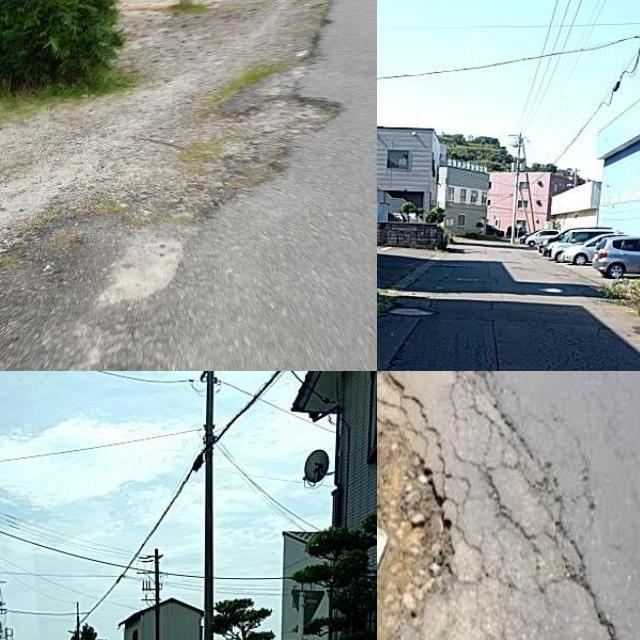Memanjang: (478, 309, 511, 371)
Pinggir: (78, 39, 377, 371), (377, 371, 608, 640)
